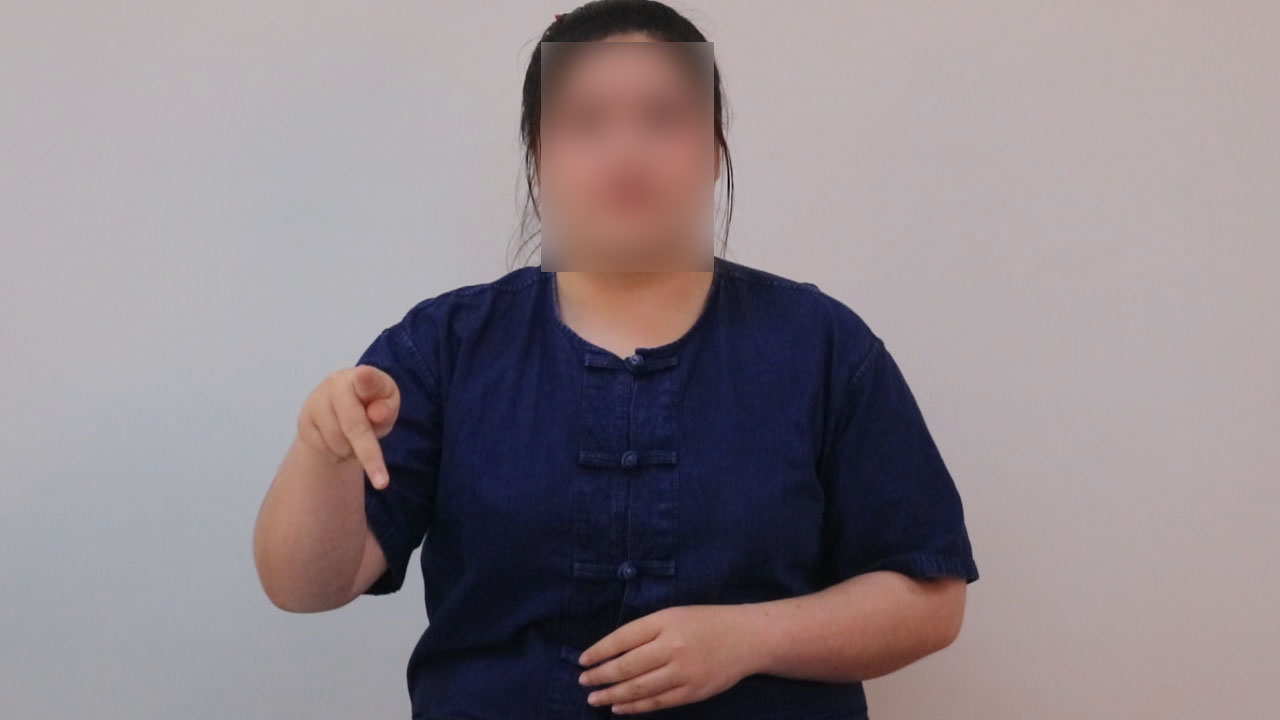por: (275, 350, 419, 500)
